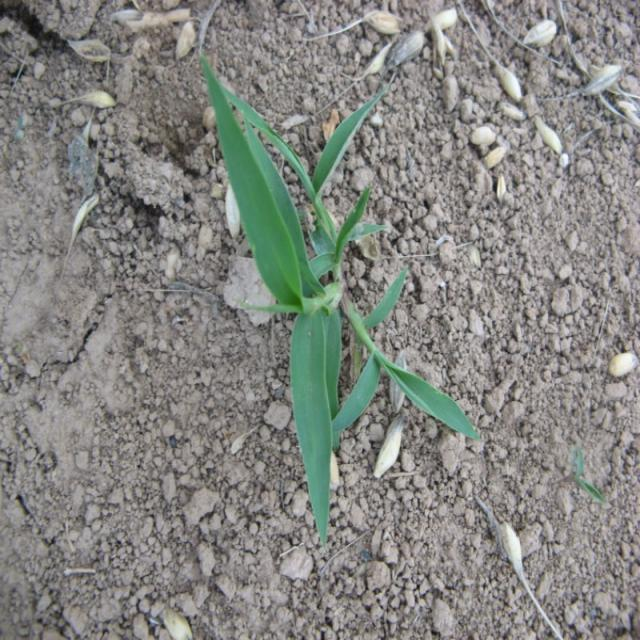bg: (200, 52, 477, 542)
